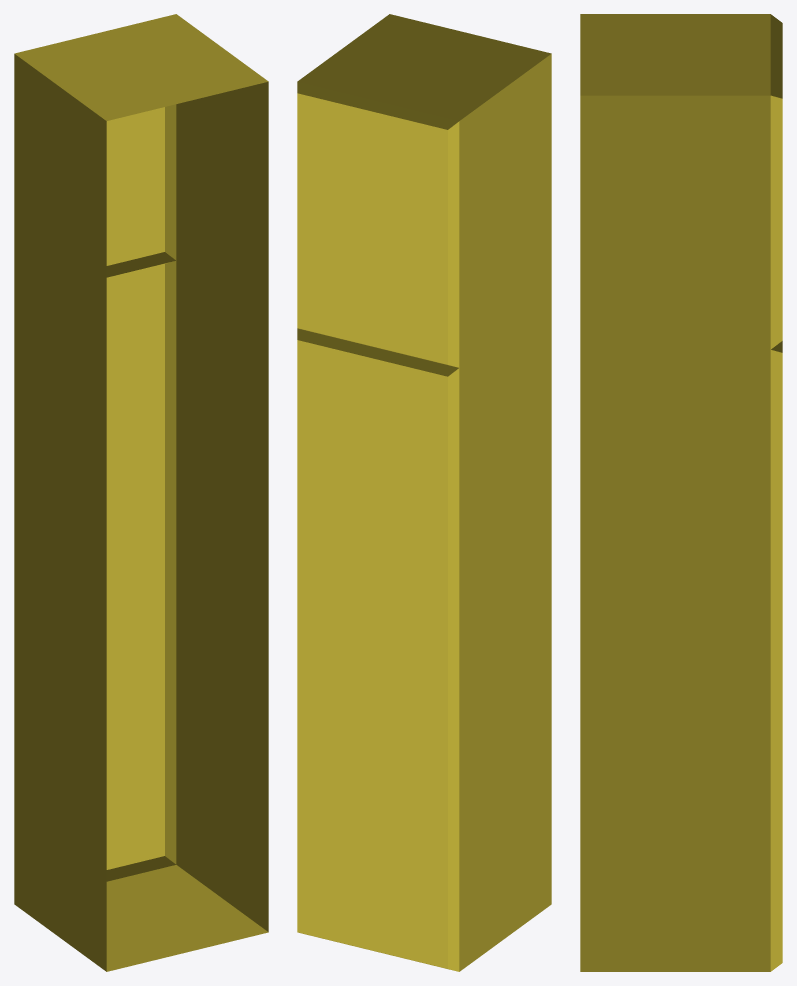
File: cotf_cupboard.FBX
3 views of the same model, side by side, from view 1: azimuth 30°, elevation 25°; view 2: azimuth 150°, elevation 25°; view 3: azimuth 270°, elevation 25° (orthographic). The views are drawn at different scales.
Parts seen in each view (by area): view 1: cotf_cupboard; view 2: cotf_cupboard; view 3: cotf_cupboard.
Boxes of the visible parts, bbox=[...] form: cotf_cupboard: bbox=[14, 14, 268, 971]; cotf_cupboard: bbox=[297, 14, 551, 971]; cotf_cupboard: bbox=[580, 14, 782, 971].
Size of the model in its own units: 0.69 by 3.46 by 0.724.
